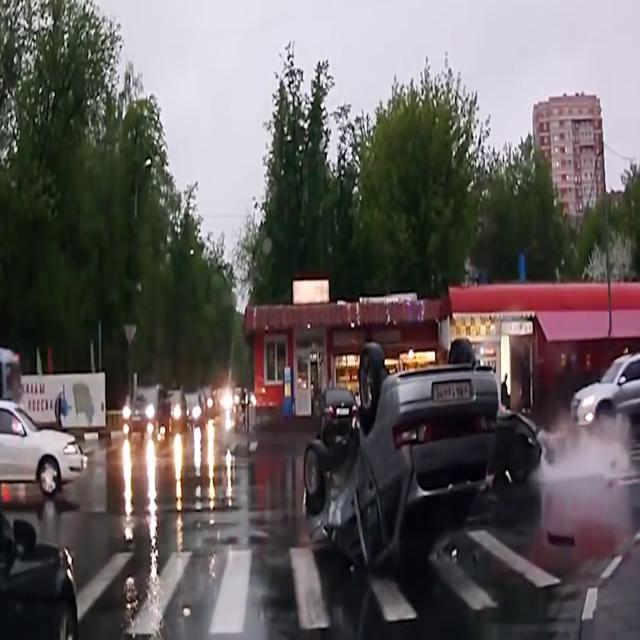multiple_accident: (283, 327, 634, 600)
